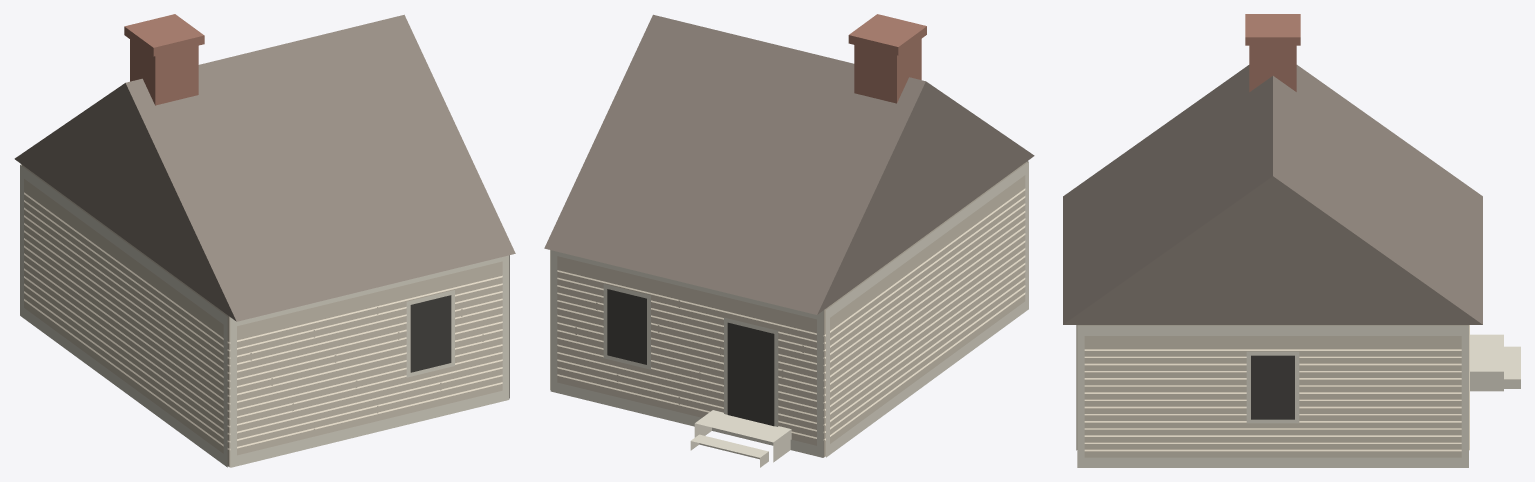
File: recon_1835_south_d3_013__inferred_1835.glb
3 renders of one model, left to right at view 1: azimuth 30°, elevation 25°; view 2: azimuth 150°, elevation 25°; view 3: azimuth 270°, elevation 25°, orthographic. The views are drawn at different scales.
Parts seen in each view (by area): view 1: recon_1835_south_d3_013__inferred_1835; view 2: recon_1835_south_d3_013__inferred_1835; view 3: recon_1835_south_d3_013__inferred_1835.
Boxes of the visible parts, x1=… form: recon_1835_south_d3_013__inferred_1835: x1=14, y1=14, x2=515, y2=467; recon_1835_south_d3_013__inferred_1835: x1=544, y1=14, x2=1034, y2=467; recon_1835_south_d3_013__inferred_1835: x1=1063, y1=14, x2=1520, y2=467.
Bounding box in the file's own units: 5.46 × 6.46 × 8.1.
